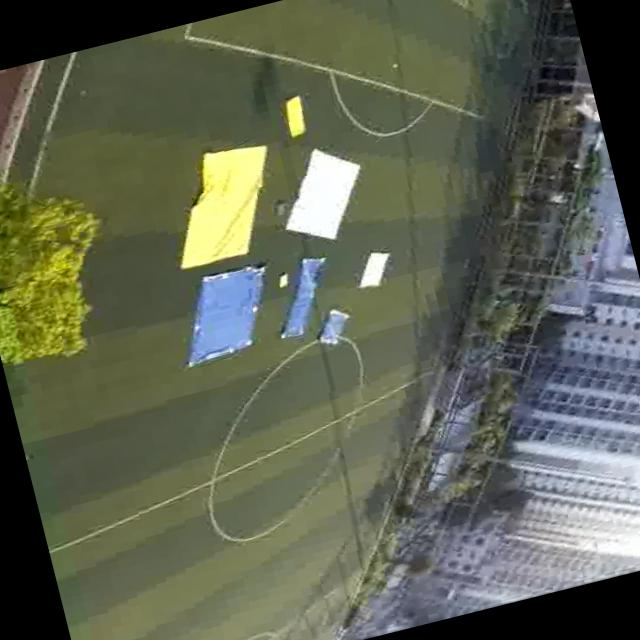danger: (172, 262, 276, 363), (290, 258, 327, 304), (316, 312, 351, 338)
safety: (284, 146, 367, 240), (350, 248, 396, 296)
warning: (162, 141, 282, 267), (278, 96, 310, 140)
